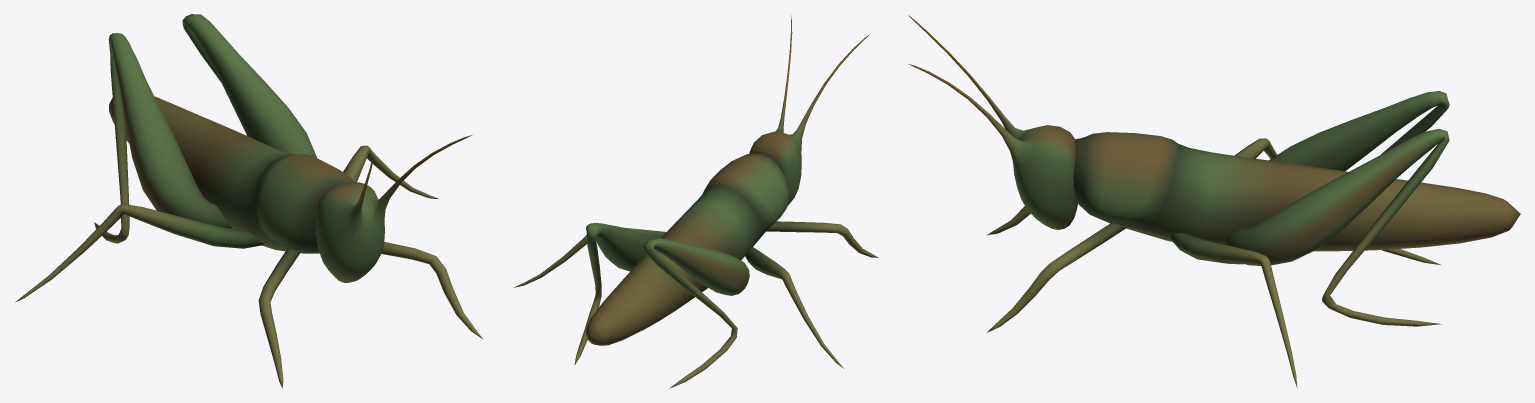
File: grasshopper.glb
The picture shows the model from 3 angles, left to right: view 1: azimuth 30°, elevation 25°; view 2: azimuth 150°, elevation 25°; view 3: azimuth 270°, elevation 25°; orthographic projection. The views are drawn at different scales.
Visible parts, largest first — view 1: grasshopper; view 2: grasshopper; view 3: grasshopper.
Boxes of the visible parts, x1,y1,x2,y2 form: grasshopper: [15, 14, 483, 388]; grasshopper: [513, 15, 878, 388]; grasshopper: [908, 15, 1520, 387].
Size of the model in its own units: 2.18 by 1.25 by 2.73.
